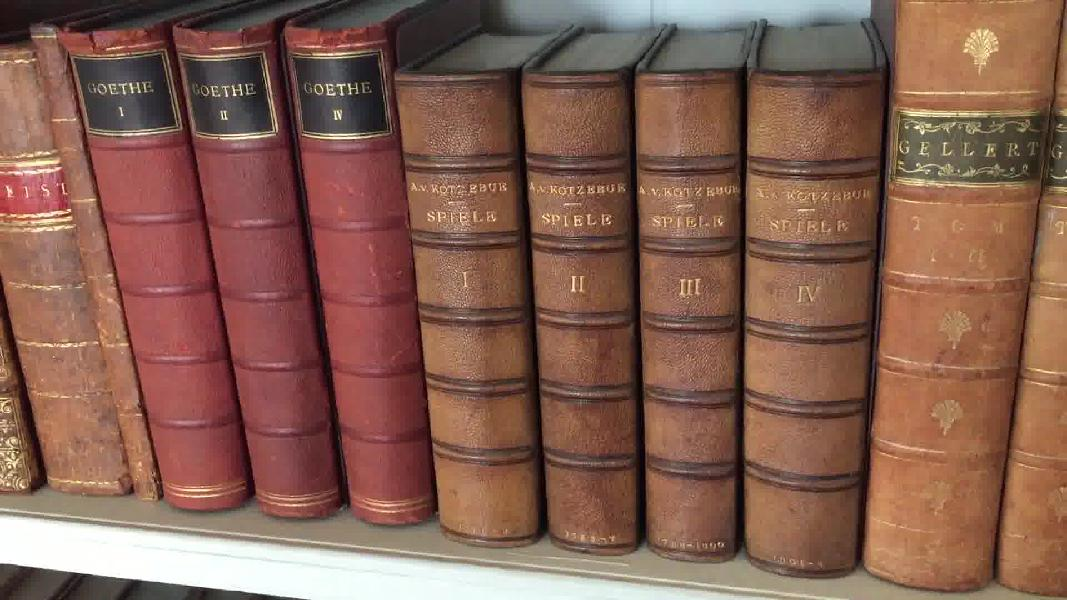Aa6-11_13: (55, 23, 443, 558)
Aa6-14_17: (386, 63, 893, 589)
